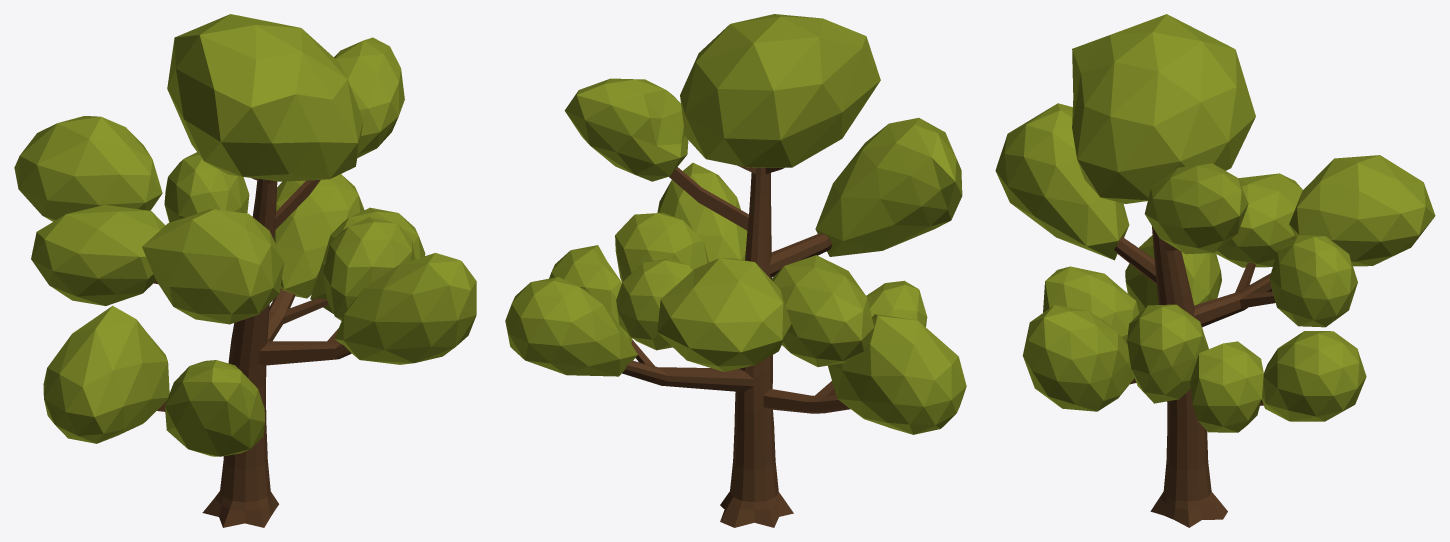
3 views of the same model, side by side, from view 1: azimuth 30°, elevation 25°; view 2: azimuth 150°, elevation 25°; view 3: azimuth 270°, elevation 25° (orthographic). The views are drawn at different scales.
Parts seen in each view (by area): view 1: Icosphere.002, Cylinder.007; view 2: Icosphere.002, Cylinder.007; view 3: Icosphere.002, Cylinder.007.
Part boxes in pixels (x1,y1,x2,y2): Icosphere.002: [14, 14, 476, 456]; Cylinder.007: [154, 178, 351, 527]; Icosphere.002: [505, 14, 966, 434]; Cylinder.007: [622, 165, 850, 527]; Icosphere.002: [995, 14, 1435, 432]; Cylinder.007: [1114, 226, 1275, 527].
Size of the model in its own units: 9.42 by 11.52 by 9.66.
